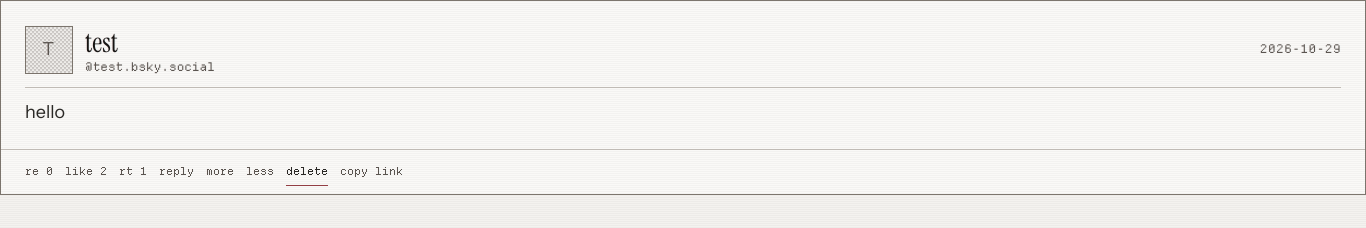
Scenario: PostCard actions › reports a failed feedback and keeps the post visible
Click the button with aria-label "less like this". click: {"x": 260, "y": 172}
box: [246,158,274,186]
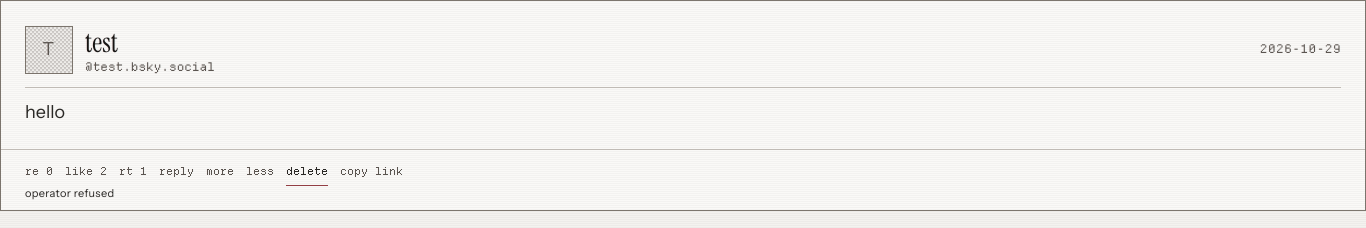
Expected: the button with aria-label "more like this" is enabled, [206,158,234,186]
Result: the message reads "operator refused" at [25,186,115,200]
